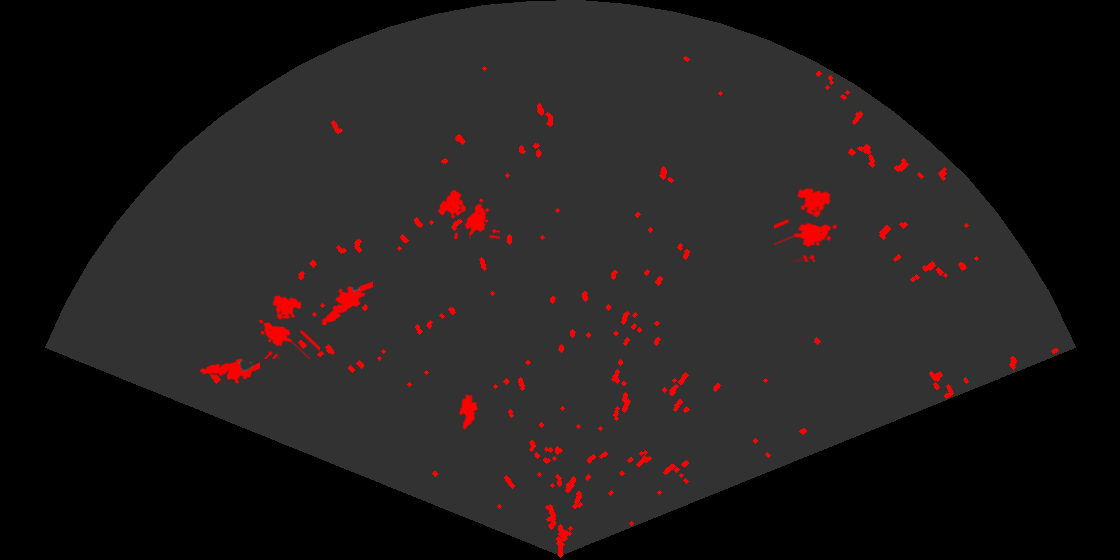AUV: (457, 392, 480, 431)
cage: (774, 186, 839, 262), (257, 294, 320, 359), (436, 188, 500, 239)
frogman: (319, 280, 373, 327), (197, 357, 260, 385)
